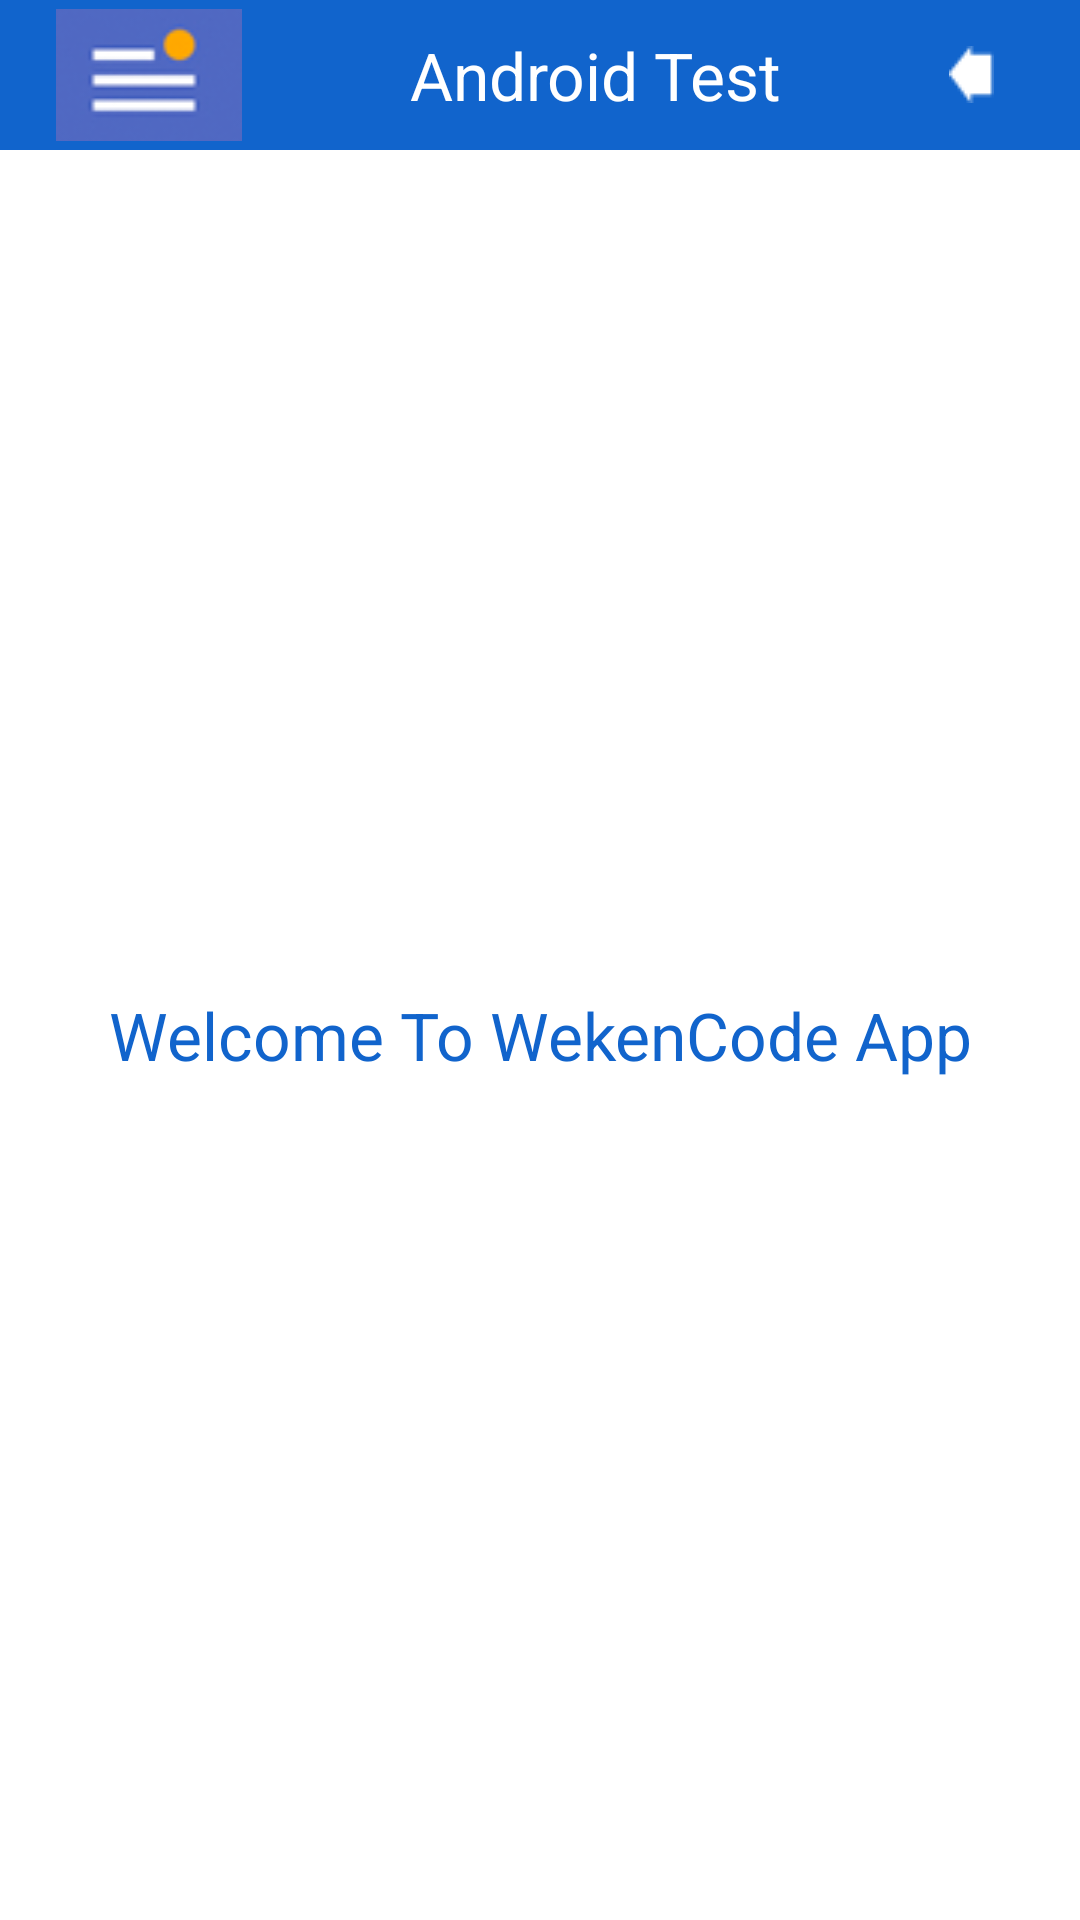

Icon bounding boxes for this 1080px×1920px phone screenshot, format box(x1, y1, x2, y2):
back: box(949, 46, 994, 103)
slide navigation: box(56, 9, 242, 141)
